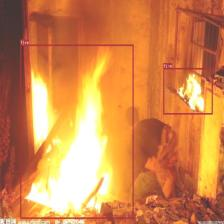fire: (20, 44, 133, 219), (163, 68, 213, 114)
